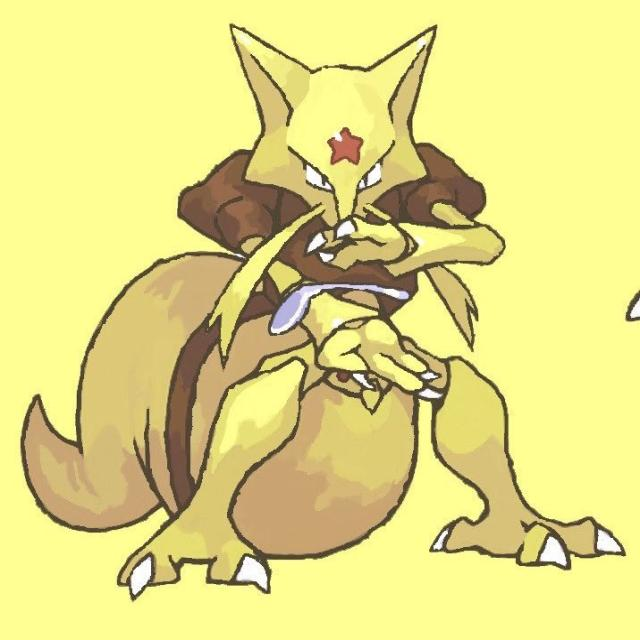Kadabra: (148, 32, 511, 594)
